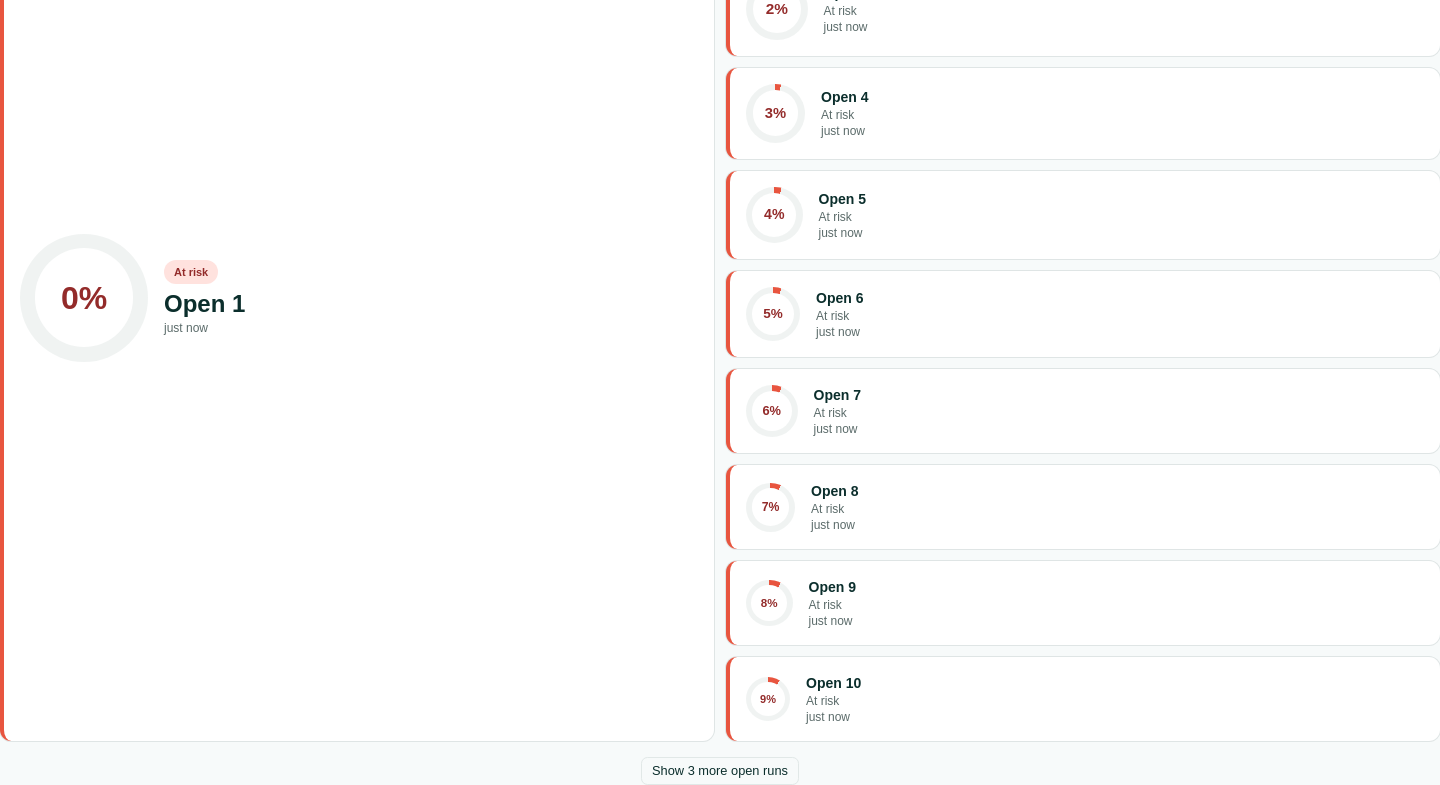
OpenRunsTriage › caps at 10 cards with a control to reveal the rest
(page scrolled)
Expected: the text "Open 1" is shown, left=164, top=290, right=245, bottom=317
Expected: the text "Open 11" is not shown
Click the button "Show 3 more open runs".
click(720, 771)  # box left=641, top=757, right=799, bottom=784
(page scrolled)
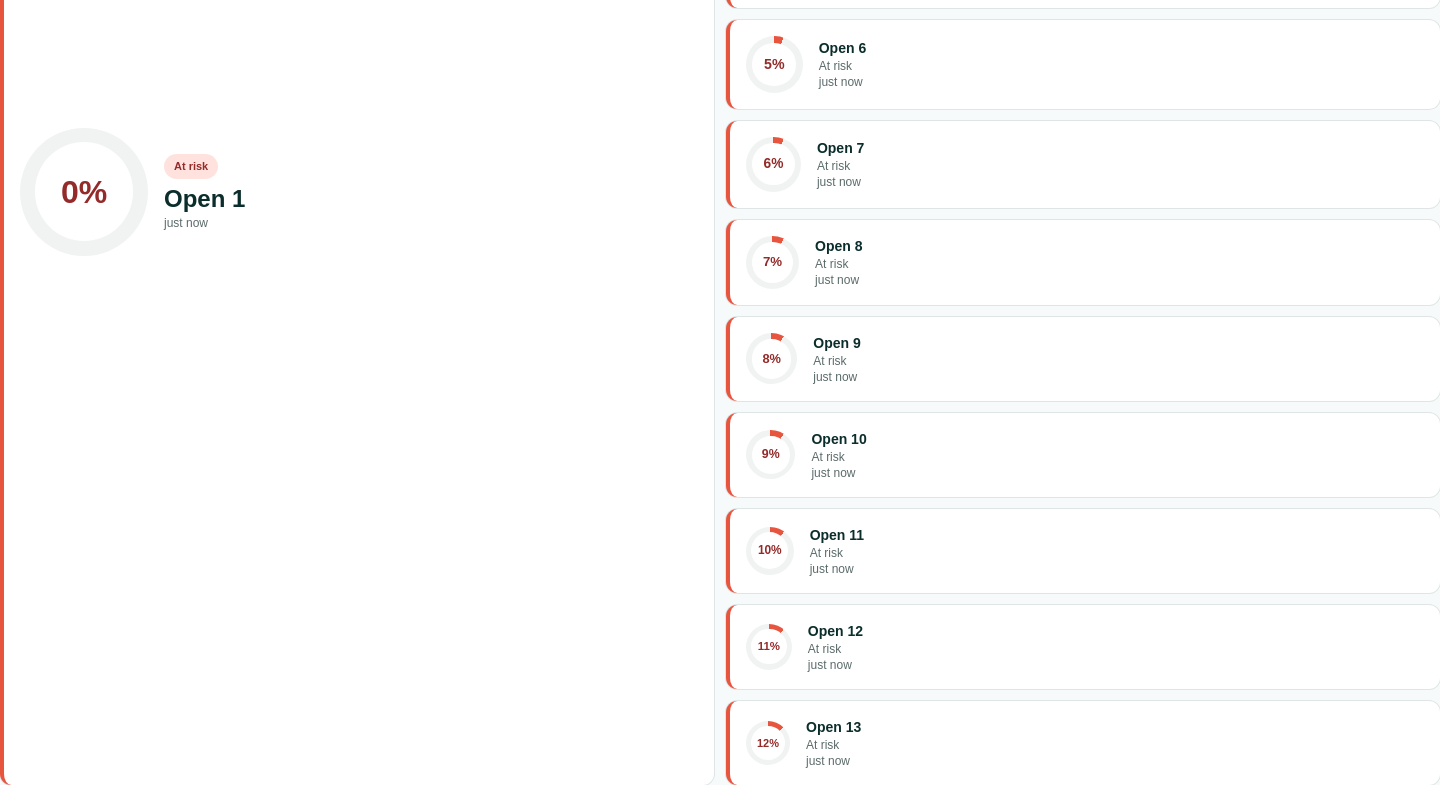
Expected: the text "Open 11" is shown, left=810, top=527, right=864, bottom=543
